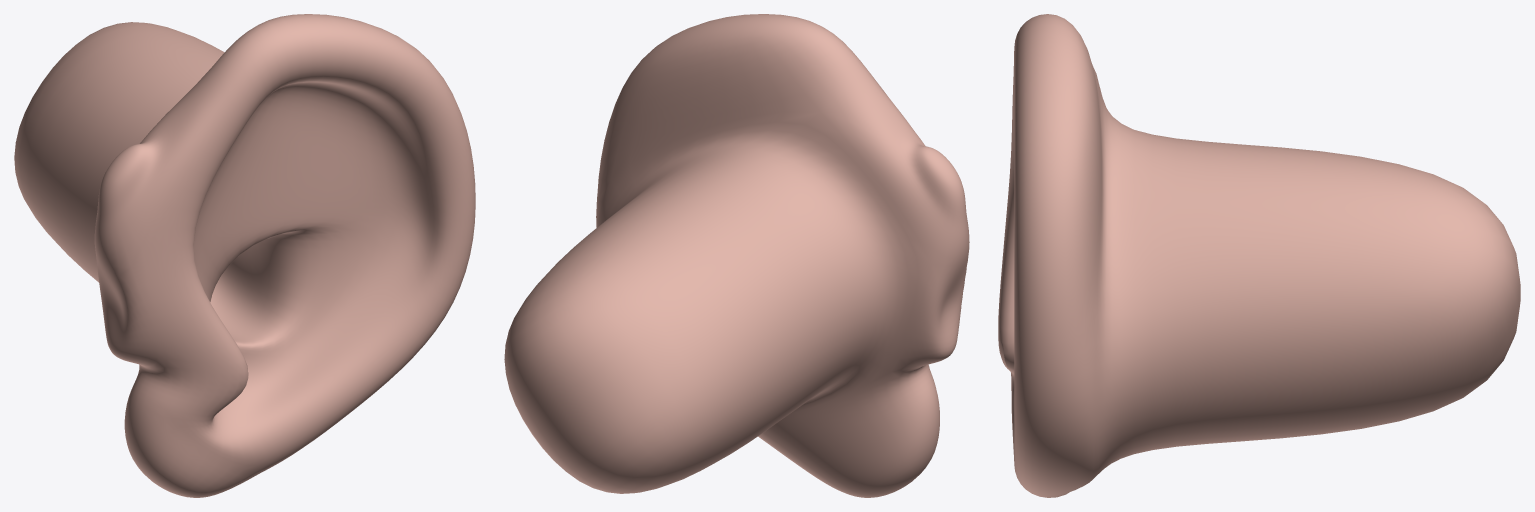
The model's file is ear.fbx.
3 views of the same model, side by side, from view 1: azimuth 30°, elevation 25°; view 2: azimuth 150°, elevation 25°; view 3: azimuth 270°, elevation 25° (orthographic). The views are drawn at different scales.
Parts seen in each view (by area): view 1: ear; view 2: ear; view 3: ear.
Boxes of the visible parts, bbox=[...] form: ear: bbox=[14, 14, 475, 497]; ear: bbox=[504, 14, 969, 497]; ear: bbox=[998, 14, 1520, 497].
Bounding box in the file's own units: 295 × 349 × 332.
